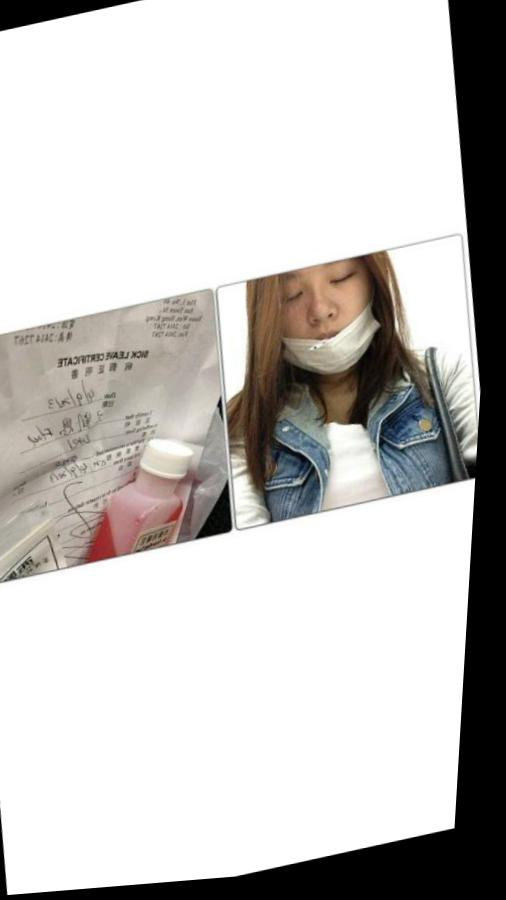WRONG: (264, 256, 400, 394)
